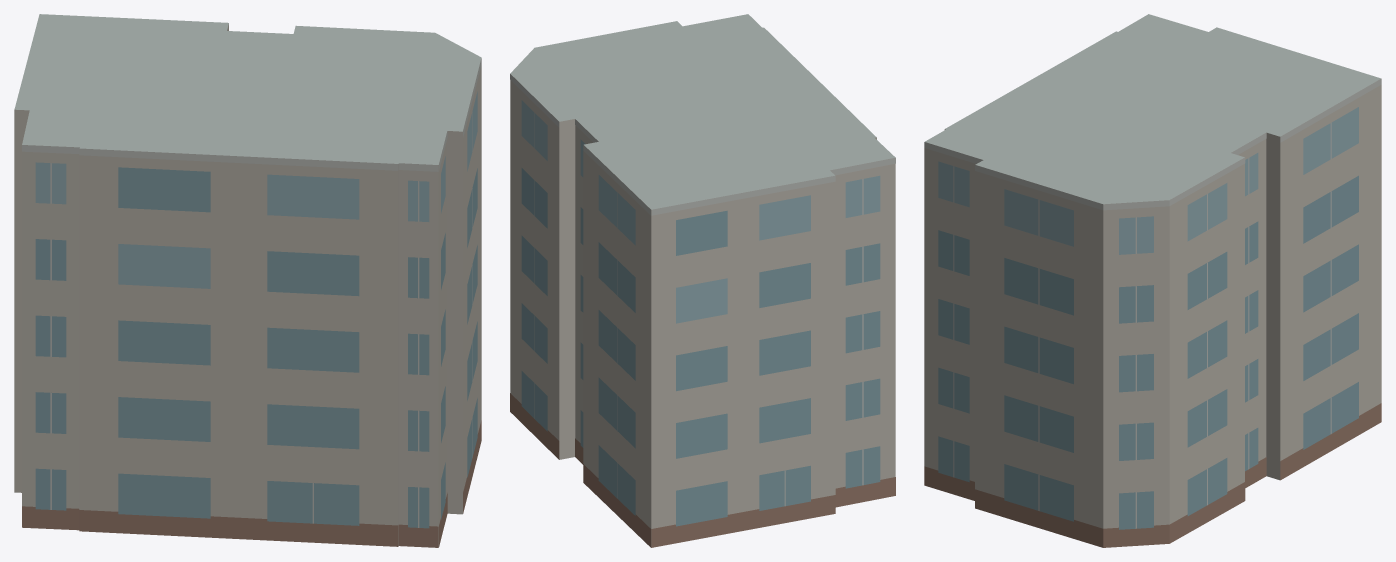
File: survey-upis-32996178.glb
3 renders of one model, left to right at view 1: azimuth 30°, elevation 25°; view 2: azimuth 150°, elevation 25°; view 3: azimuth 270°, elevation 25°, orthographic. The views are drawn at different scales.
Visible parts, largest first — view 1: survey-upis-32996178.tmp; view 2: survey-upis-32996178.tmp; view 3: survey-upis-32996178.tmp.
Boxes of the visible parts, x1=… form: survey-upis-32996178.tmp: x1=14, y1=14, x2=481, y2=547; survey-upis-32996178.tmp: x1=510, y1=14, x2=895, y2=547; survey-upis-32996178.tmp: x1=924, y1=14, x2=1381, y2=547.
Size of the model in its own units: 16.28 by 13.7 by 16.52.
